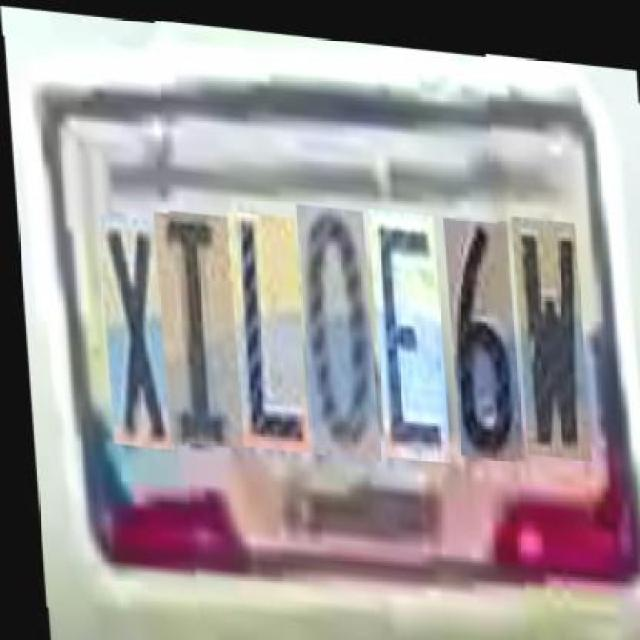6: (440, 207, 518, 451)
e: (364, 200, 444, 454)
i: (150, 205, 238, 444)
l: (224, 205, 304, 447)
o: (293, 196, 375, 453)
w: (509, 207, 586, 451)
x: (94, 210, 168, 444)
